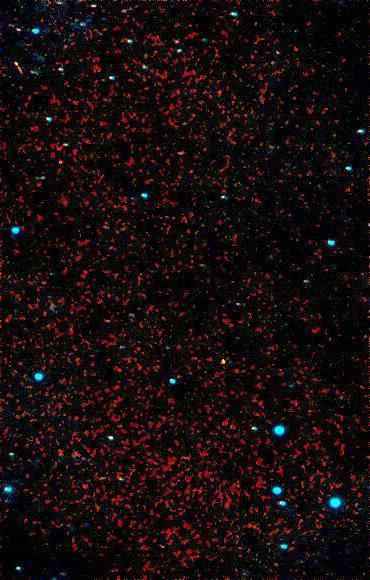star: (209, 347, 239, 377)
